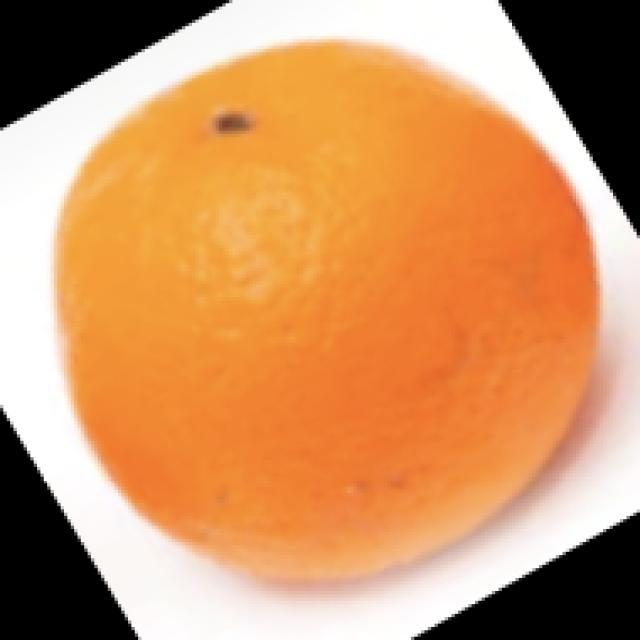matang: (58, 43, 597, 573)
